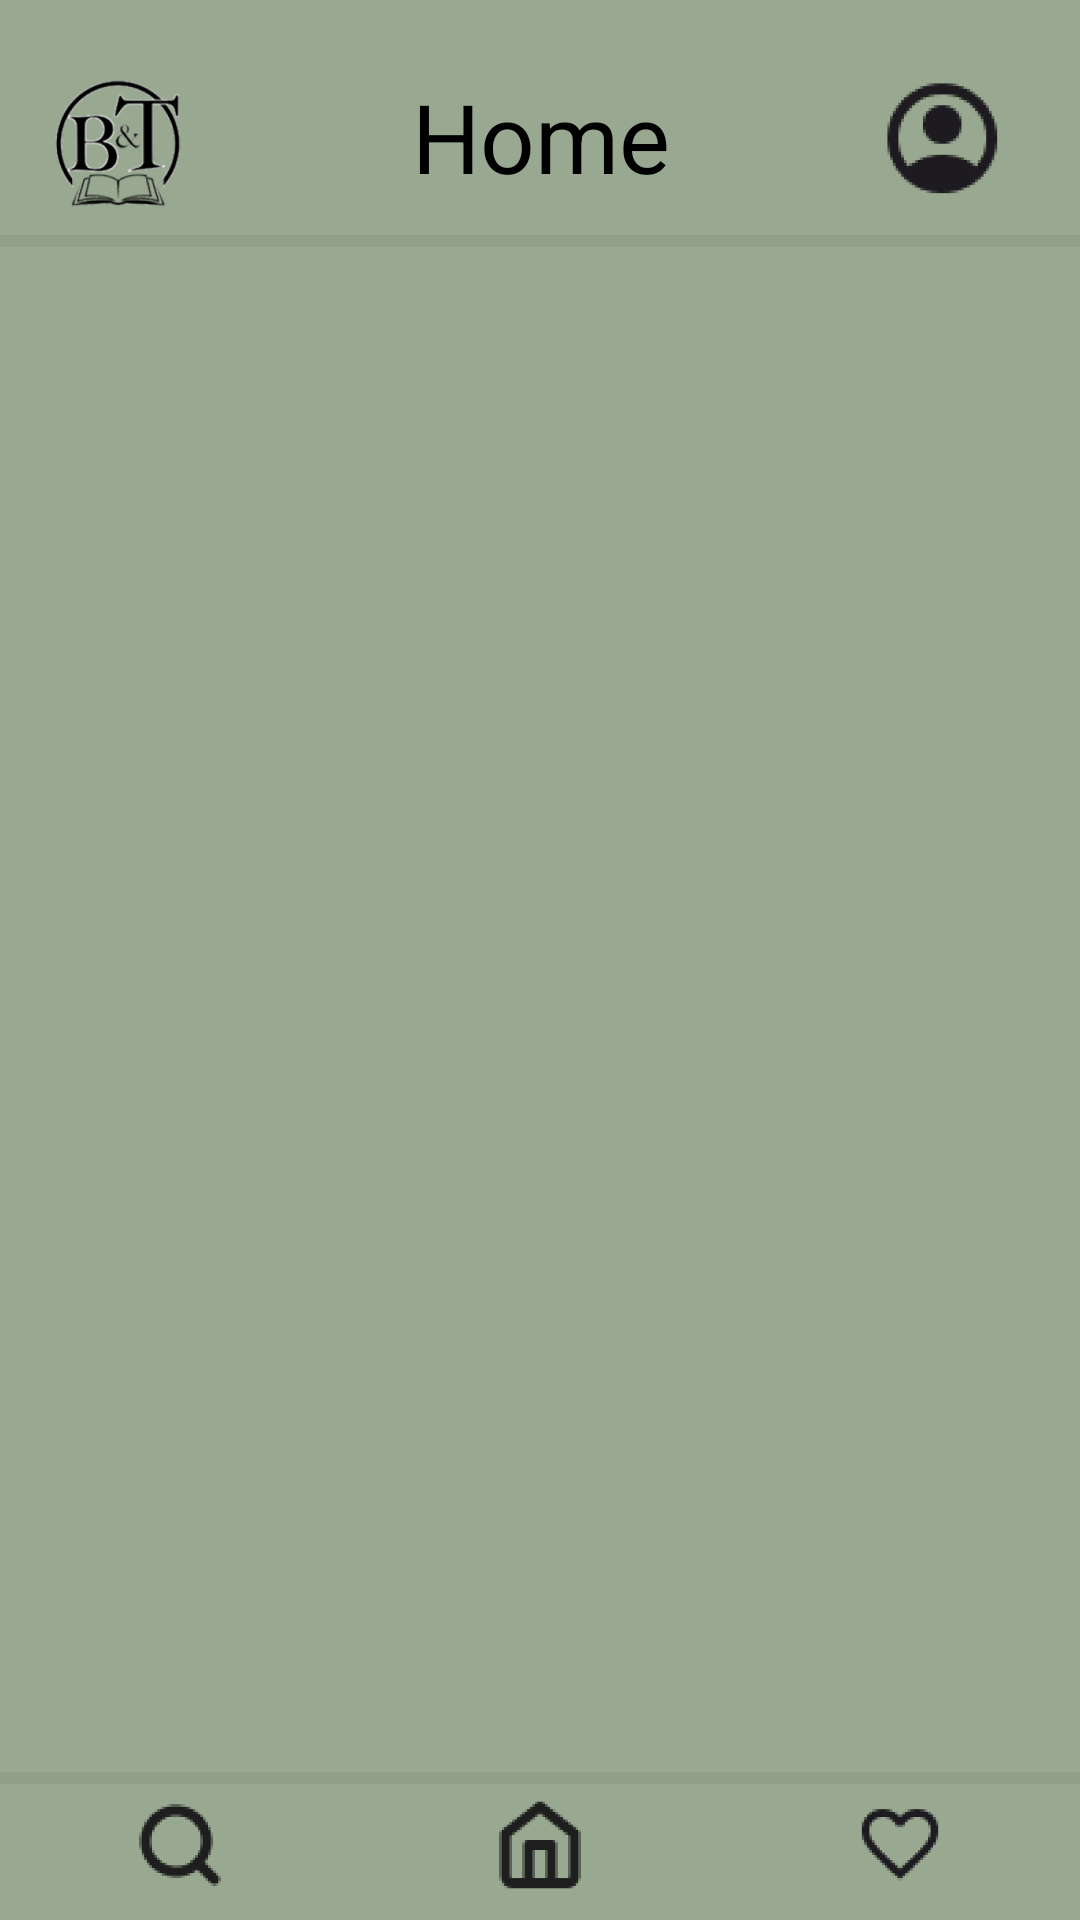

Icon click points for this 1080*1920 phone screenshot, format (x,y):
fav: (900,1844)
home: (540,1845)
search: (180,1845)
user: (942,138)
